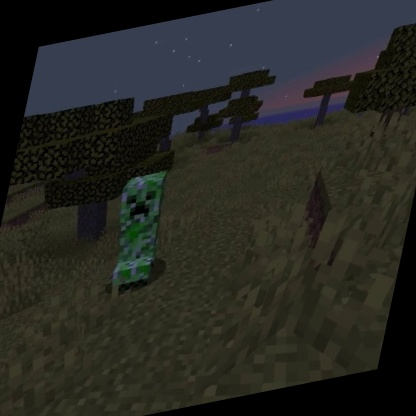creeper: (96, 164, 181, 302)
